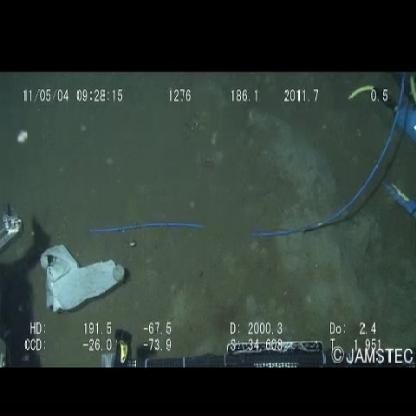Rác: (36, 240, 130, 319)
